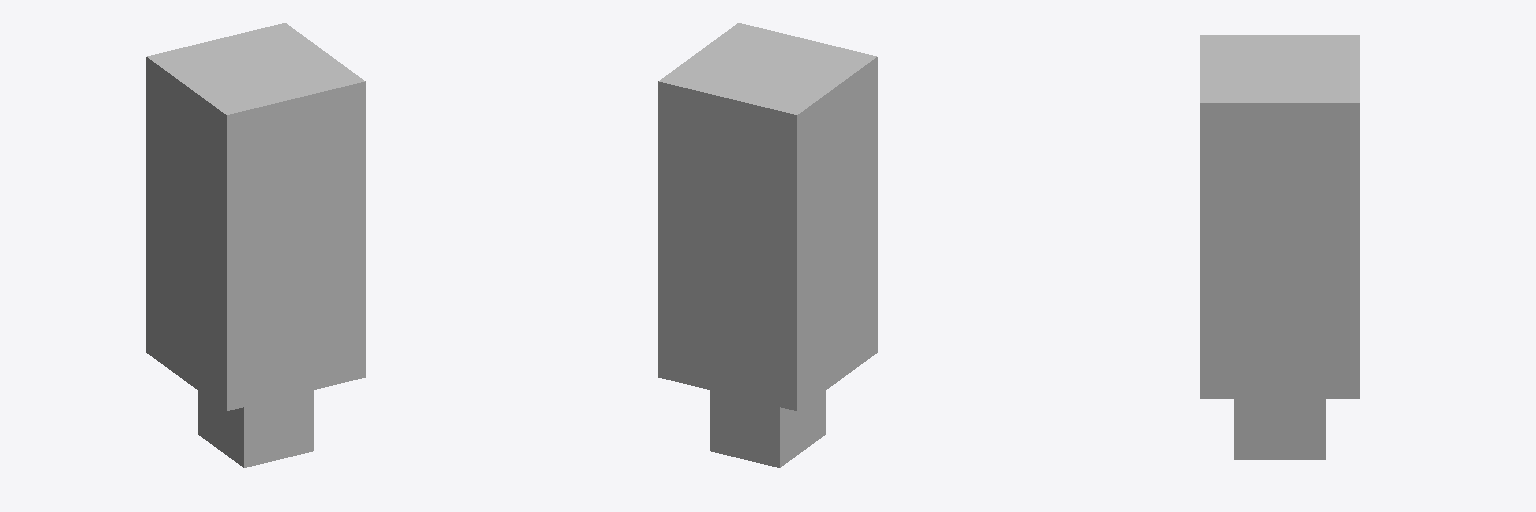
File: tree2.obj
The picture shows the model from 3 angles: view 1: azimuth 30°, elevation 25°; view 2: azimuth 150°, elevation 25°; view 3: azimuth 270°, elevation 25°; orthographic projection.
Parts seen in each view (by area): view 1: object 1; view 2: object 1; view 3: object 1.
Boxes of the visible parts, x1=… form: object 1: x1=146, y1=23, x2=365, y2=467; object 1: x1=658, y1=23, x2=877, y2=467; object 1: x1=1200, y1=35, x2=1359, y2=459.
Size of the model in its own units: 2.8 by 7.2 by 2.8.